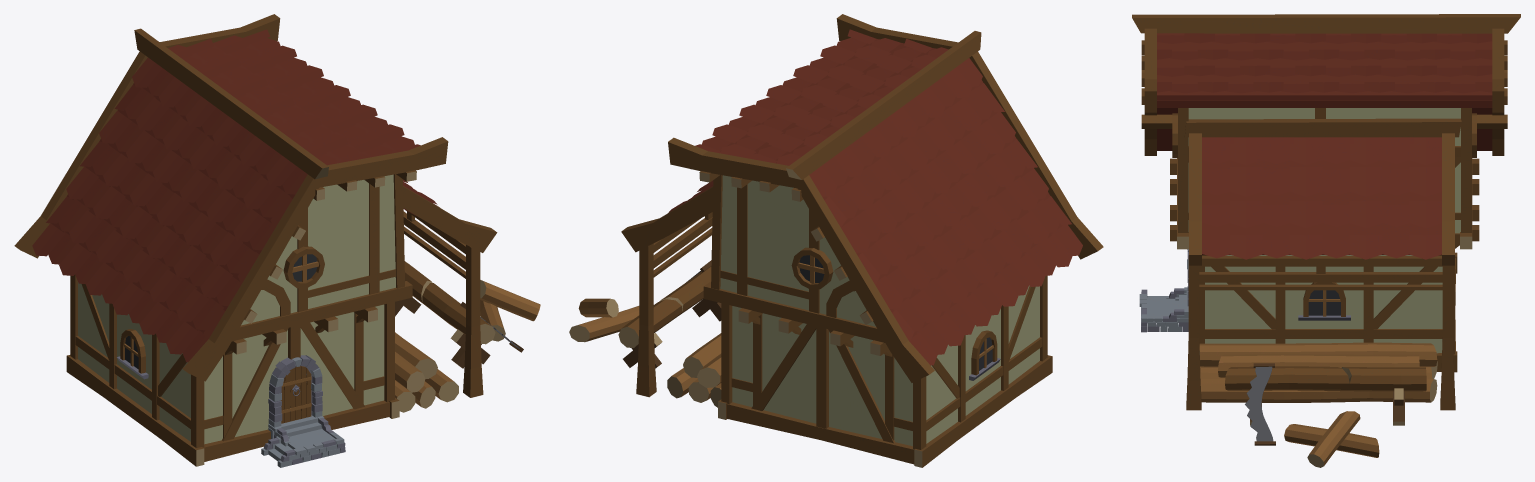
Rendered from Fantasy_Sawmill.glb.
3 renders of one model, left to right at view 1: azimuth 30°, elevation 25°; view 2: azimuth 150°, elevation 25°; view 3: azimuth 270°, elevation 25°, orthographic. The views are drawn at different scales.
Parts seen in each view (by area): view 1: Sawmill; view 2: Sawmill; view 3: Sawmill.
Part boxes in pixels (box(x1,y1,x2,y2)): Sawmill: box(14, 14, 540, 467); Sawmill: box(569, 14, 1103, 467); Sawmill: box(1132, 14, 1520, 467).
Size of the model in its own units: 4.4 by 2.86 by 3.28.
1 material, 1 textured.
